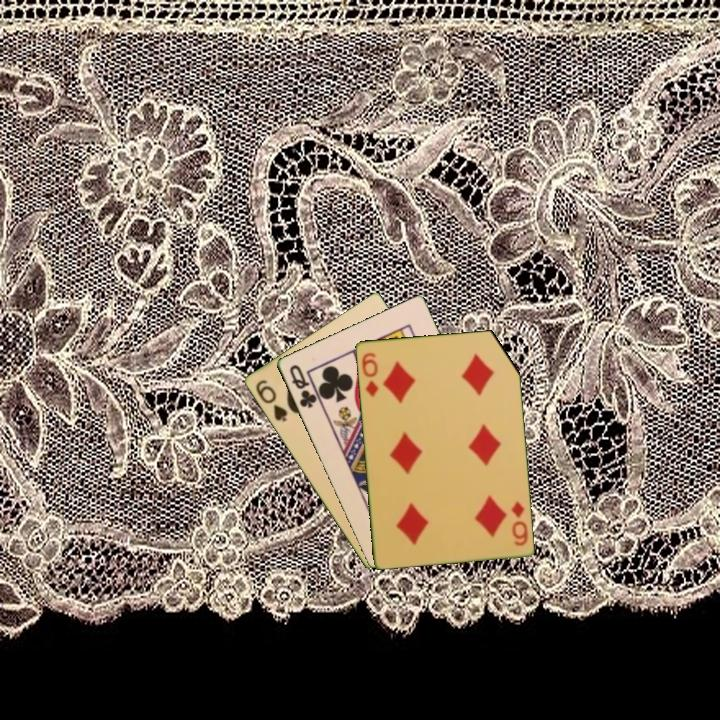6d: (507, 497, 531, 548), (358, 349, 381, 399)
6s: (252, 376, 290, 425)
Qc: (285, 361, 319, 411)
